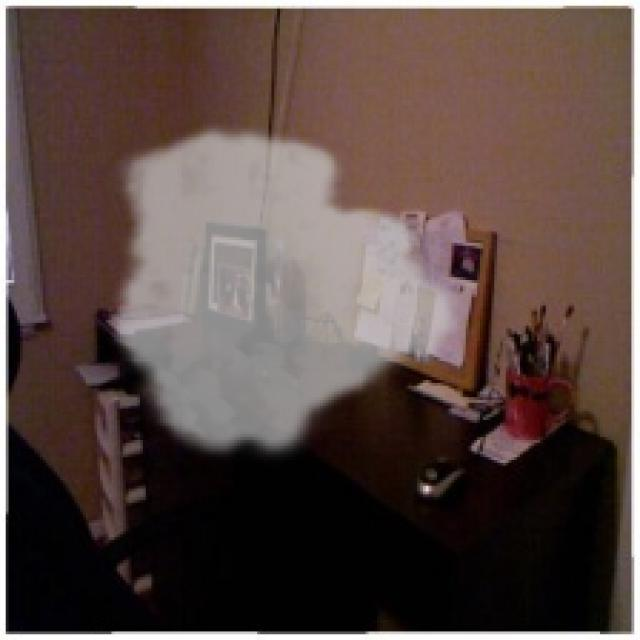smoke: (109, 123, 468, 466)
